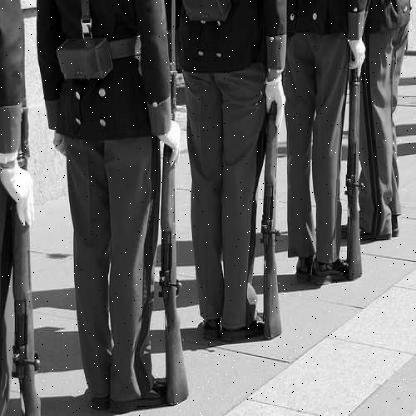rifle: (153, 68, 207, 403), (8, 125, 54, 415), (260, 57, 295, 345), (345, 45, 376, 285)
